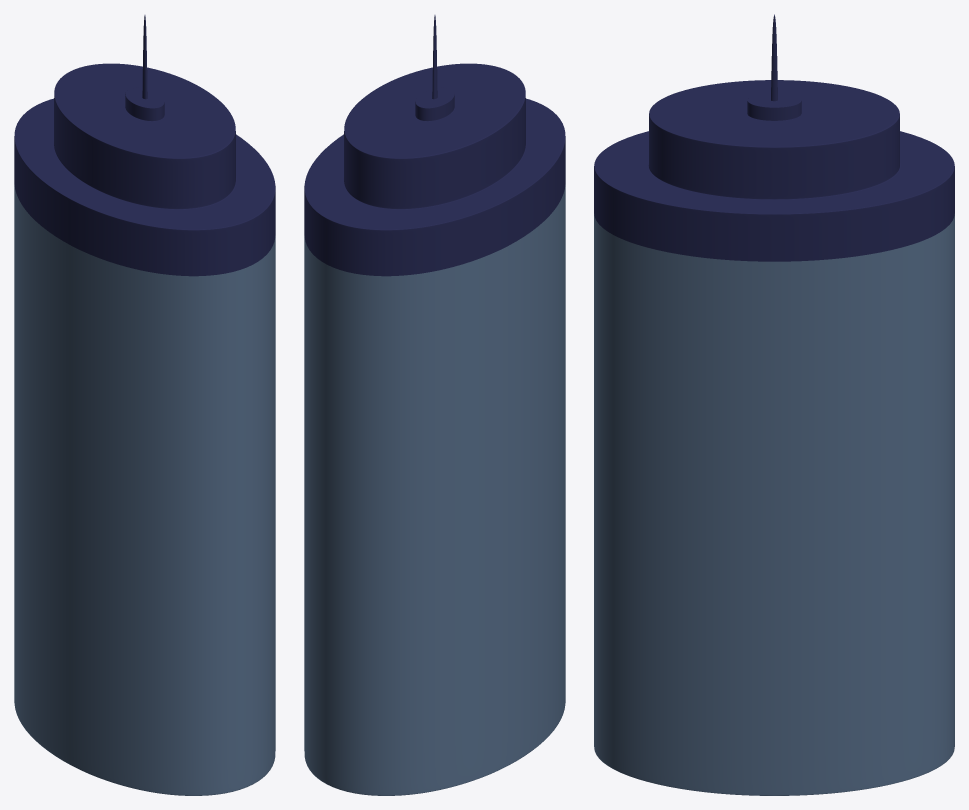
Rendered from skyscraper_09.fbx.
3 renders of one model, left to right at view 1: azimuth 30°, elevation 25°; view 2: azimuth 150°, elevation 25°; view 3: azimuth 270°, elevation 25°, orthographic. The views are drawn at different scales.
Visible parts, largest first — view 1: Cylinder; view 2: Cylinder; view 3: Cylinder.
Boxes of the visible parts, left/top/right/bottom form: Cylinder: left=14, top=15, right=275, bottom=795; Cylinder: left=304, top=15, right=565, bottom=795; Cylinder: left=594, top=14, right=954, bottom=795.
Size of the model in its own units: 2567 by 9048 by 4034.
